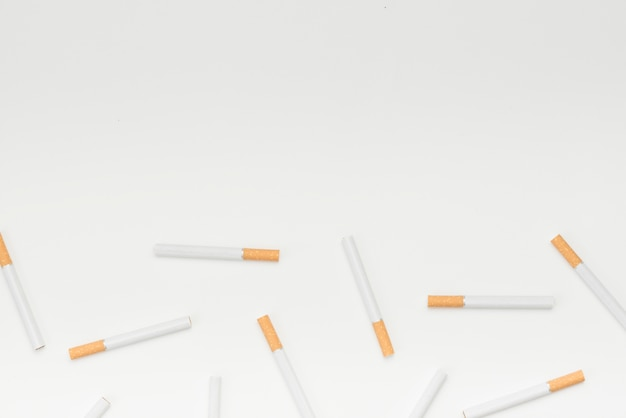cigarette: (548, 229, 626, 330), (340, 234, 395, 357), (256, 311, 317, 417), (463, 370, 588, 418), (68, 314, 193, 361), (1, 231, 47, 352), (152, 241, 283, 265), (426, 291, 558, 310), (407, 368, 450, 418), (84, 393, 112, 418), (207, 372, 221, 418)
